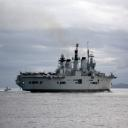Portanaves: (16, 41, 119, 95)
